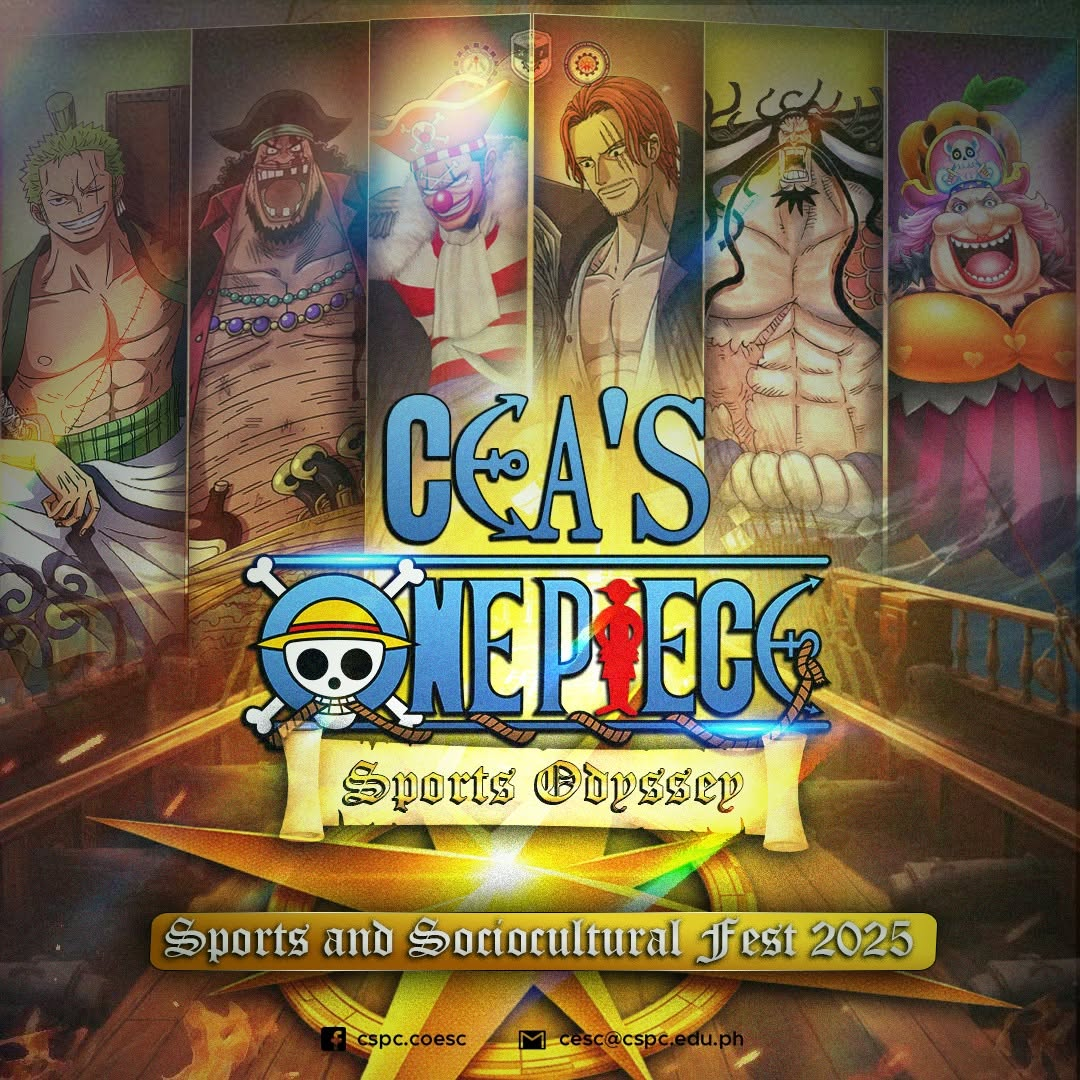embellishment: (92, 818, 1011, 1080), (279, 726, 809, 852), (148, 912, 937, 975), (245, 556, 426, 734), (454, 391, 546, 542), (593, 578, 649, 716)
logo: (454, 38, 503, 92), (516, 24, 558, 84), (563, 41, 610, 92)
text: (240, 555, 832, 748), (383, 392, 711, 549), (163, 918, 915, 964), (342, 759, 745, 814), (558, 1029, 743, 1050), (357, 1028, 467, 1050)
underlay: (275, 723, 815, 849)
